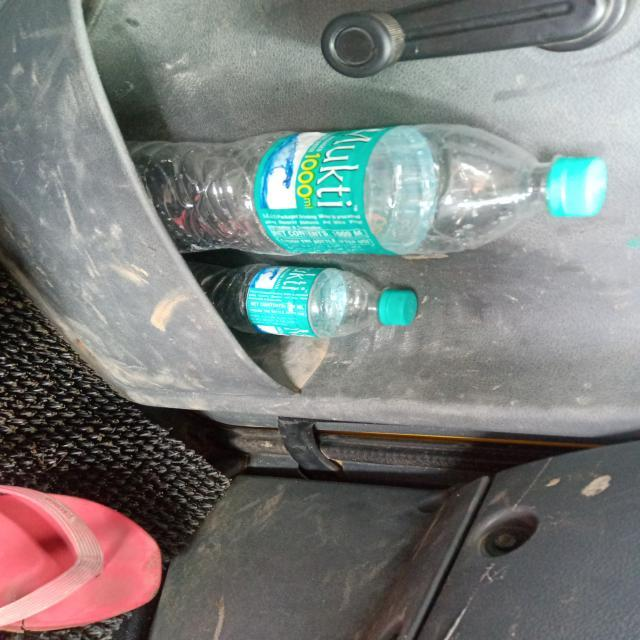good: (46, 120, 610, 266), (163, 263, 422, 336)
